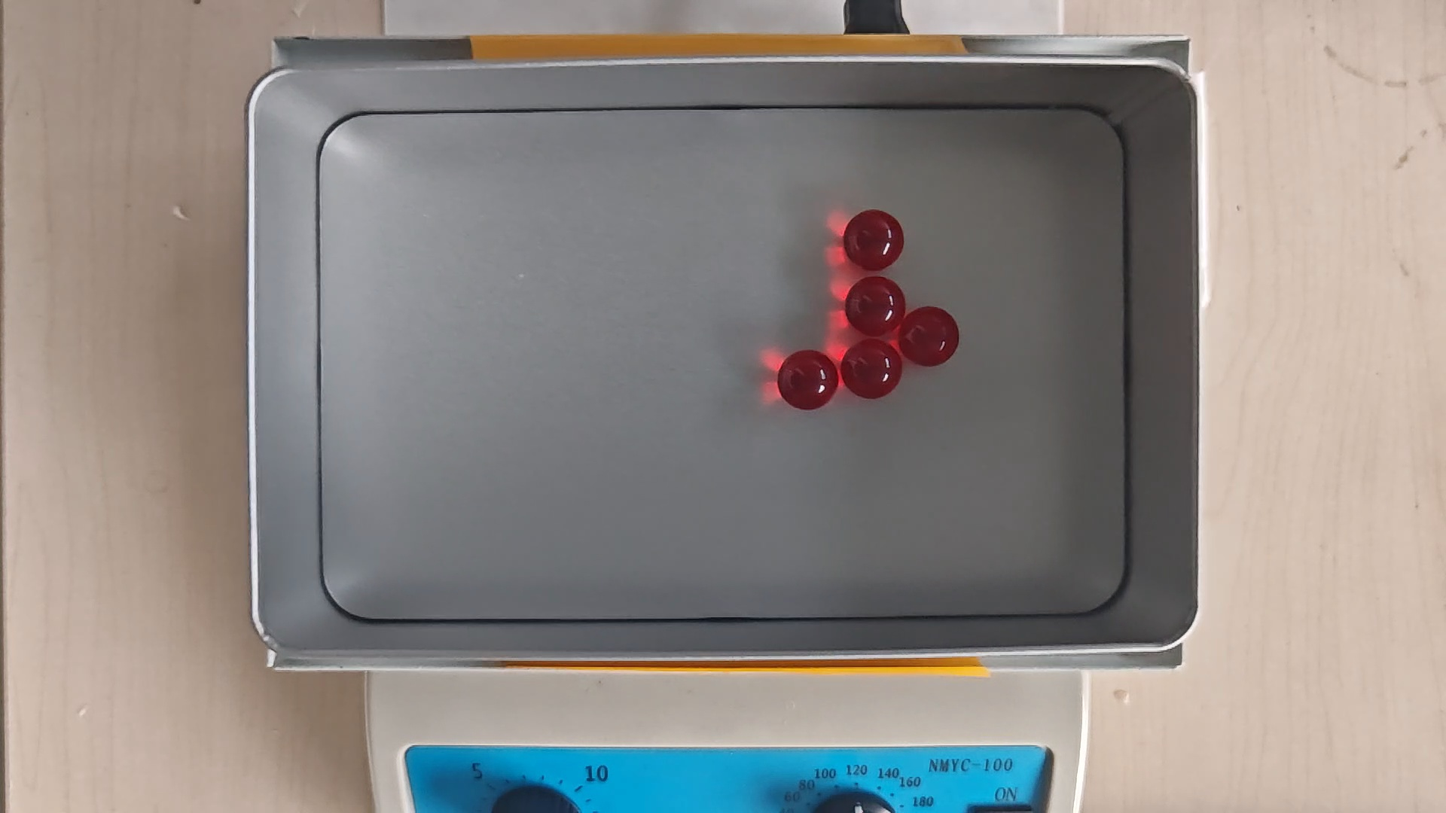ball: (776, 349, 840, 413), (840, 338, 903, 400), (844, 209, 905, 271), (900, 305, 960, 367), (843, 276, 903, 335)
container: (315, 106, 1126, 617)
